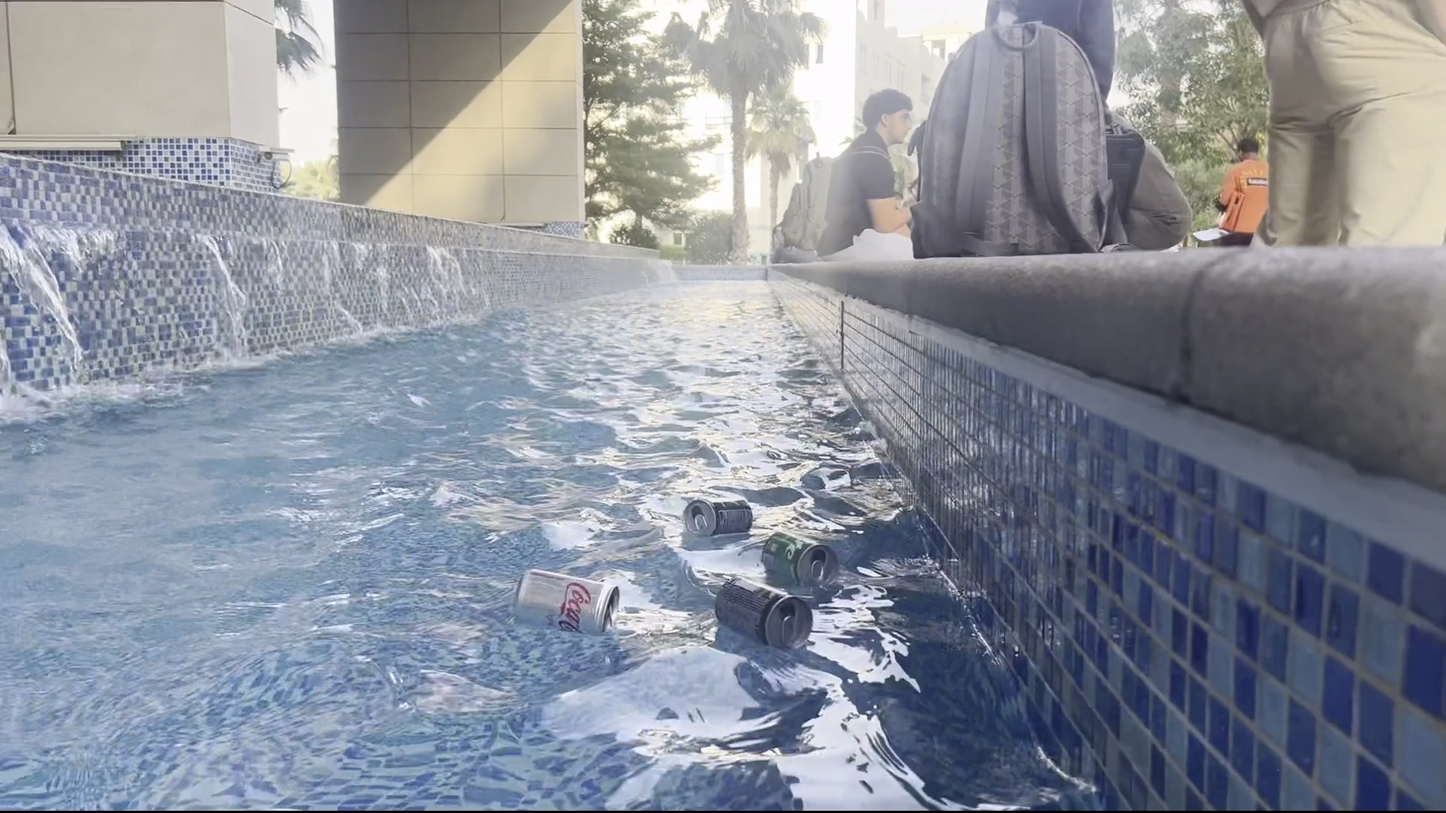debris: (709, 570, 817, 660), (507, 562, 622, 627), (752, 520, 840, 589), (680, 487, 756, 540)
